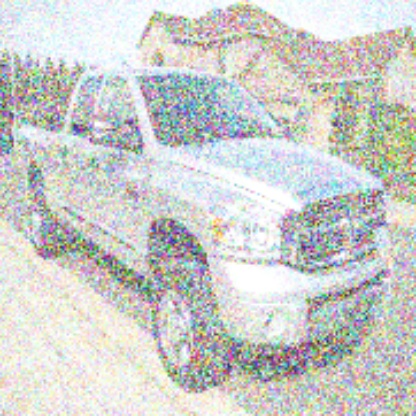Vehicle: (17, 67, 393, 392)
